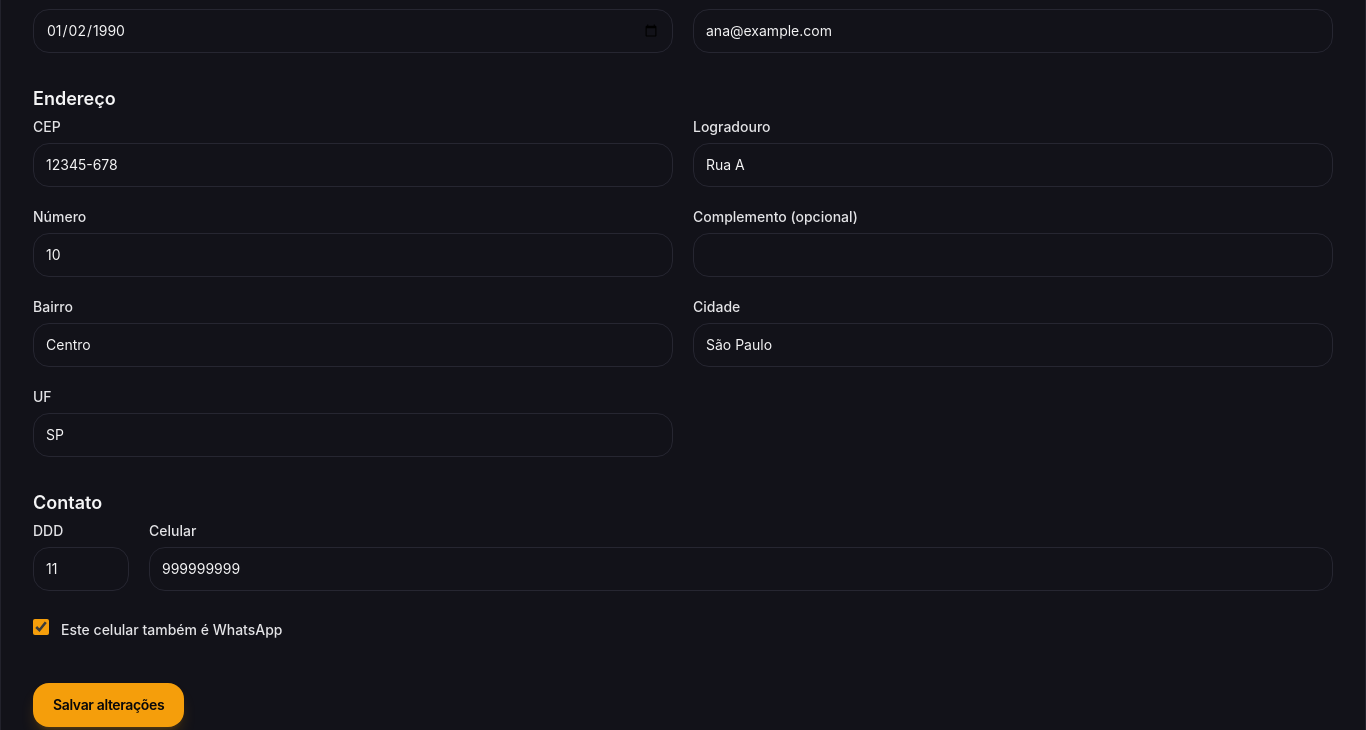
Test case: CustomerDataForm › does not announce success when profile reconciliation rejects
The width and height of the screenshot is (1366, 730).
(page scrolled)
Step 1. Click the button "Salvar alterações" → {"x": 109, "y": 705}, box [33,683,184,727]
(page scrolled)
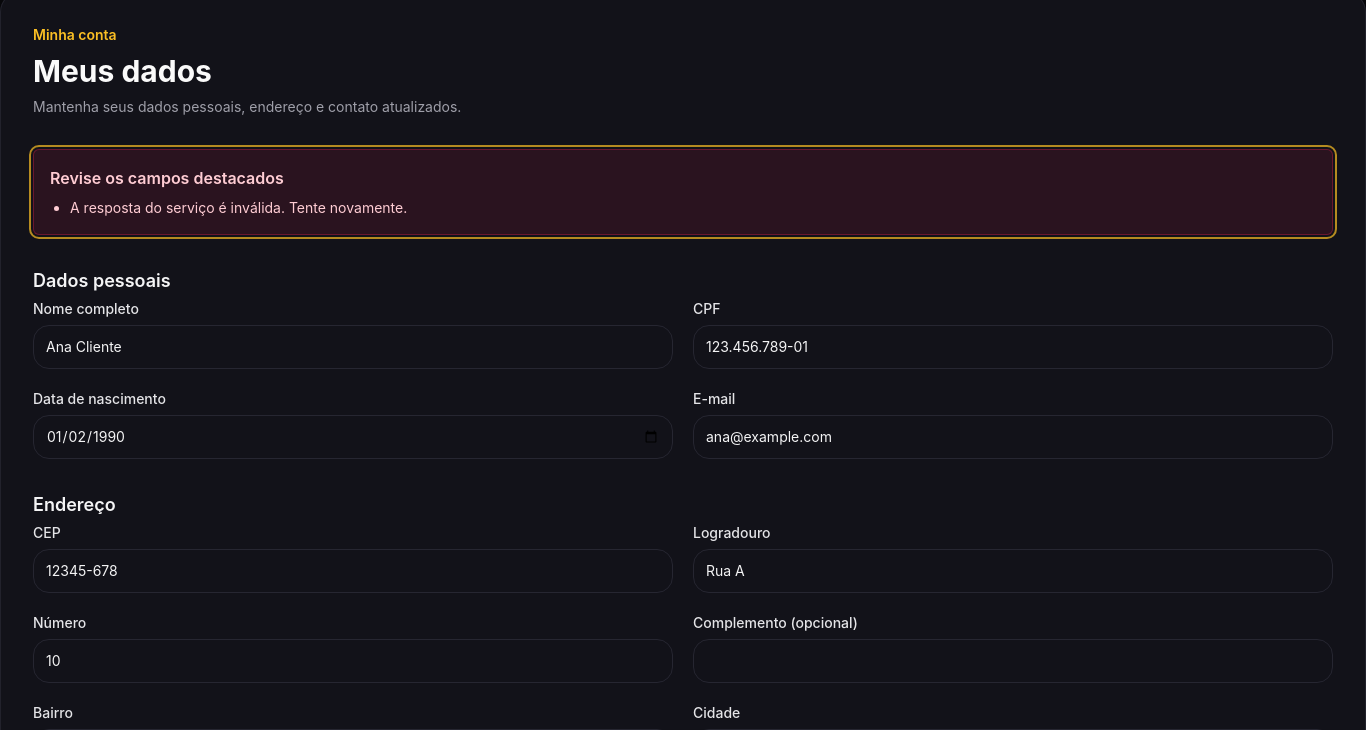
expect the list item "A resposta do serviço é inválida. Tente novamente." is shown: met, box [70,199,407,216]
